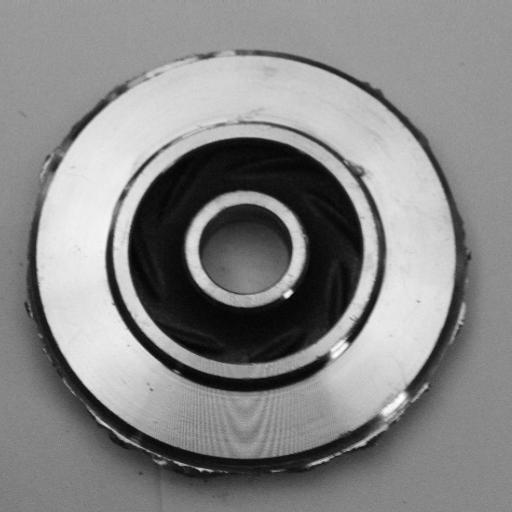casting_with_burr: (20, 46, 472, 483)
crack: (332, 149, 383, 189)
scratch: (182, 101, 270, 141), (313, 327, 370, 376)
